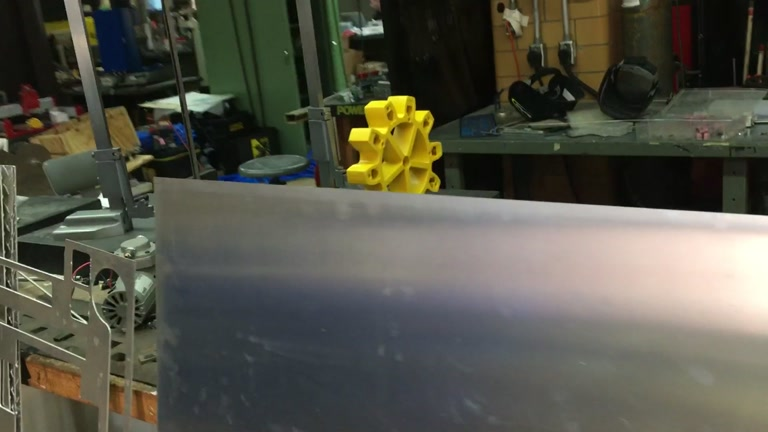gear: (345, 95, 444, 208)
